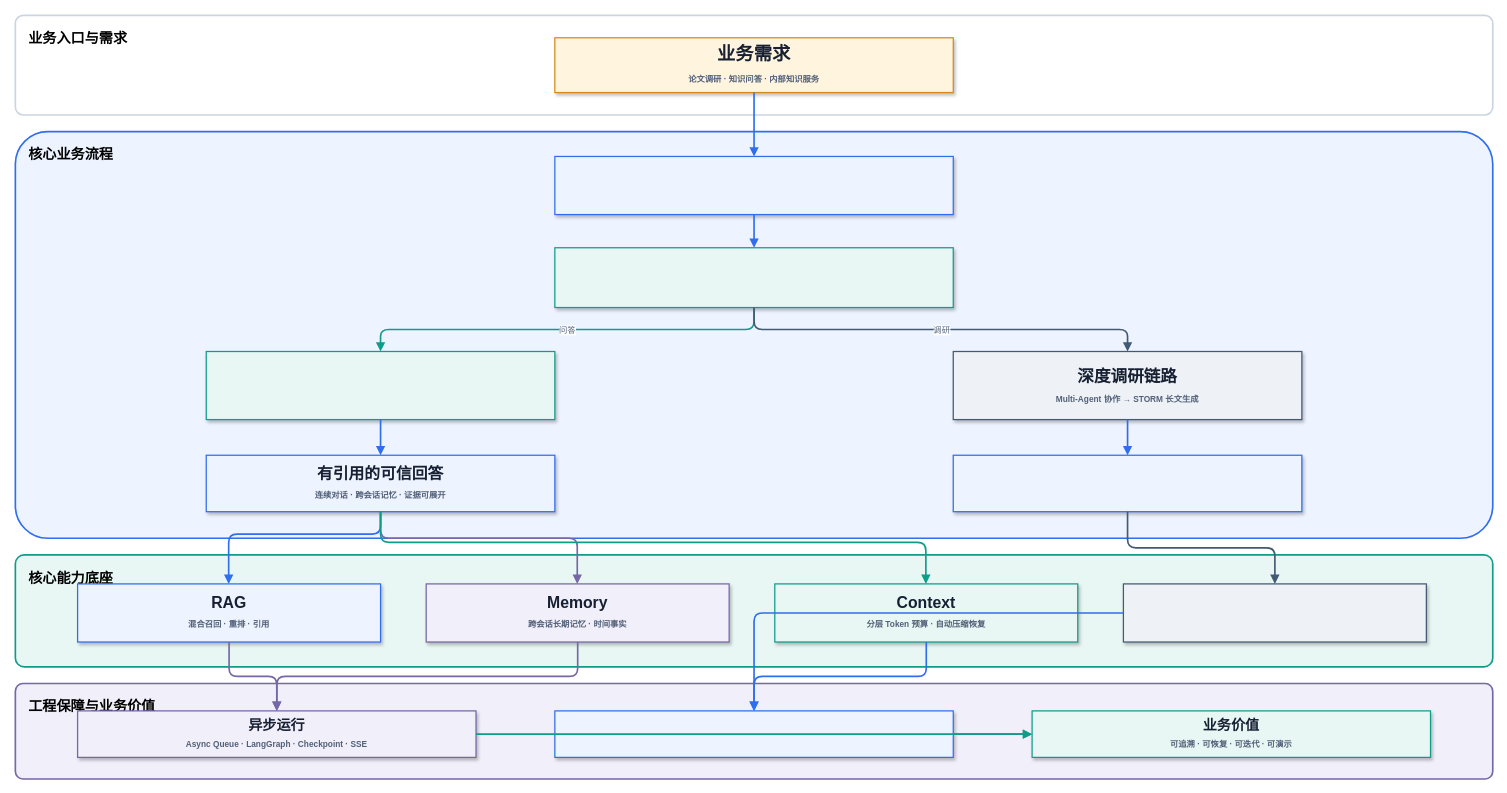
Some shapes in this 1507 by 793 pixel diagram are drawn without their labels. Each missing label, with the centre of its shape:
Multi-Agent 规划 · 检索 · 审核 · 生成: point 1275,614
PaperPilot Agent 平台 统一入口 · 任务服务 · 会话服务: point 754,186
可观测与领域评测 Langfuse Score · PIM Domain Pilot: point 754,735
意图识别与任务编排 区分闲聊、知识问答与深度调研: point 754,278
智能问答链路 上下文装配 → 记忆召回 → RAG 证据门控: point 381,386
结构化调研文章 知识策展 · 大纲 · 章节写作 · 润色: point 1128,484
